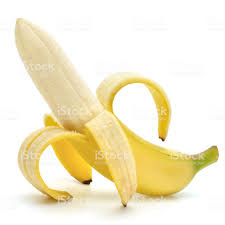banana: (12, 16, 219, 210)
